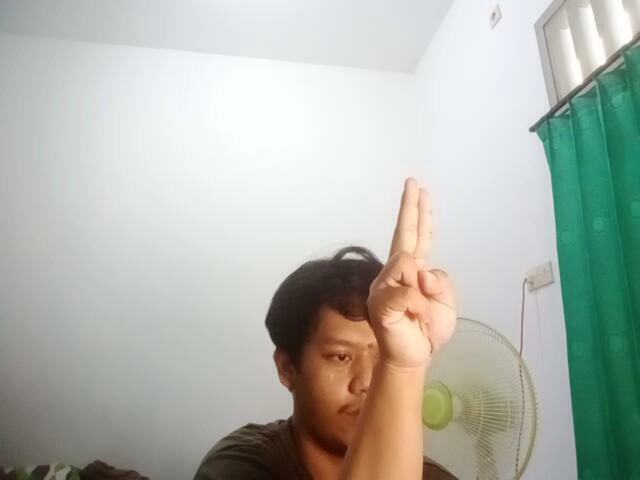U: (367, 171, 461, 371)
